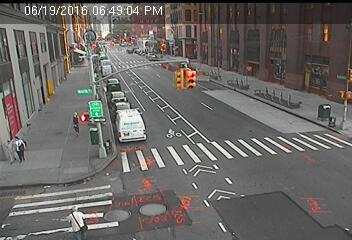neg: (40, 73, 58, 98)
pos: (63, 107, 87, 139)
